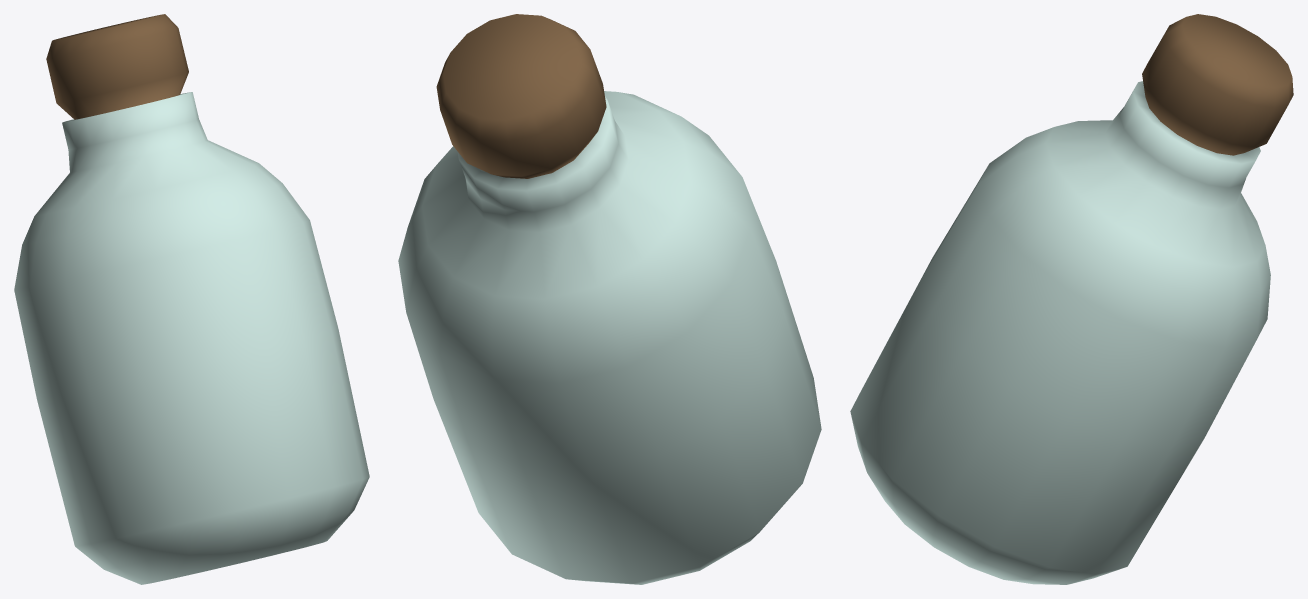
File: tea bottle blue.fbx
3 renders of one model, left to right at view 1: azimuth 30°, elevation 25°; view 2: azimuth 150°, elevation 25°; view 3: azimuth 270°, elevation 25°, orthographic. The views are drawn at different scales.
Parts seen in each view (by area): view 1: botlle; view 2: botlle; view 3: botlle.
Part boxes in pixels (left/top/right/bottom): botlle: left=14, top=14, right=369, bottom=584; botlle: left=398, top=14, right=821, bottom=584; botlle: left=850, top=14, right=1293, bottom=584.
Size of the model in its own units: 60.18 by 108 by 80.53.
